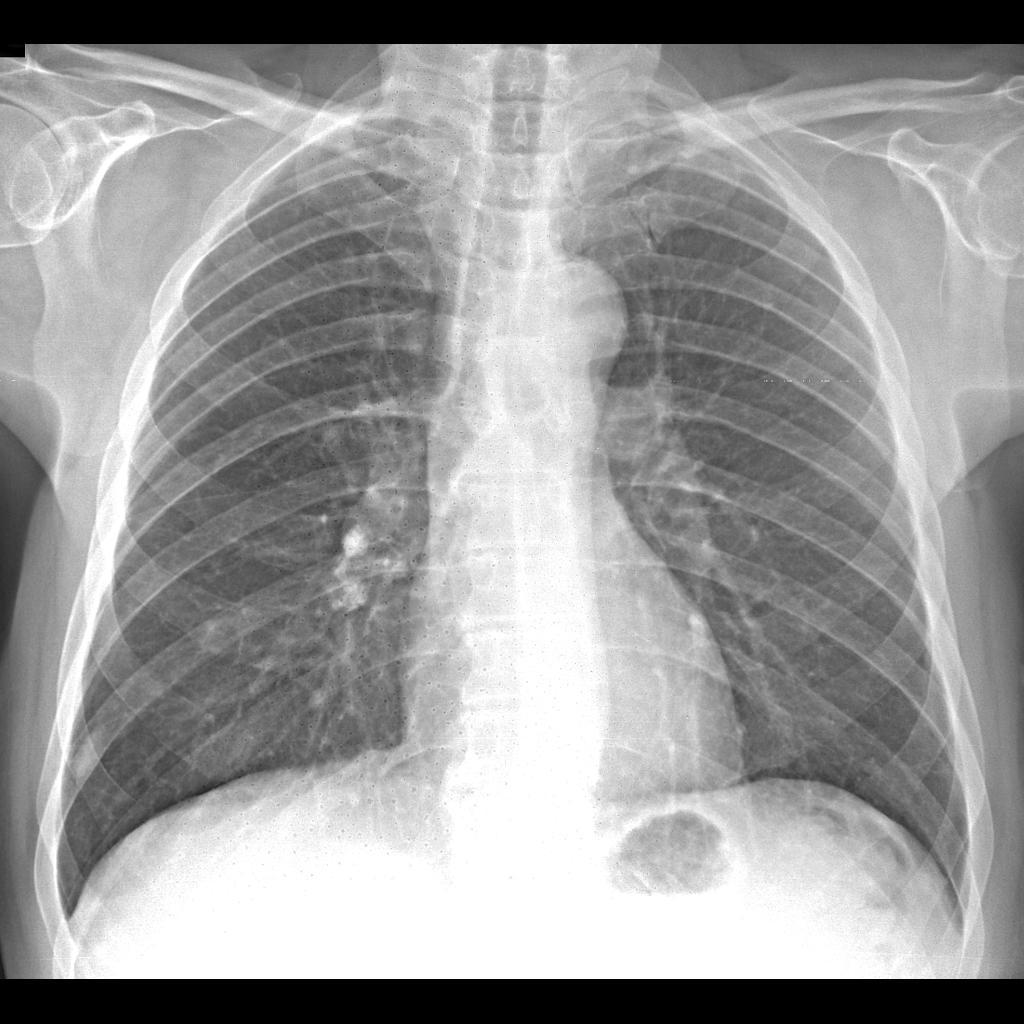Nodule: (71, 726, 104, 797)
